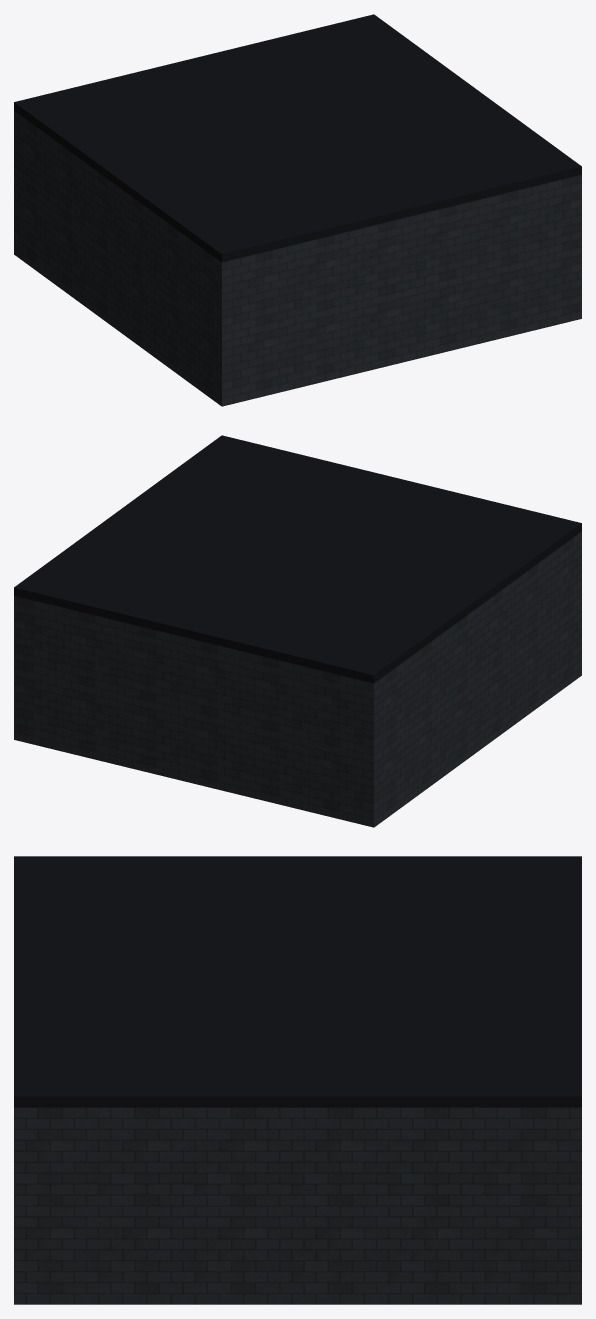
File: garage.glb
3 renders of one model, top to bottom at view 1: azimuth 30°, elevation 25°; view 2: azimuth 150°, elevation 25°; view 3: azimuth 270°, elevation 25°, orthographic. The views are drawn at different scales.
Parts seen in each view (by area): view 1: walls; view 2: walls; view 3: walls.
Boxes of the visible parts, x1=… form: walls: x1=14, y1=14, x2=581, y2=406; walls: x1=14, y1=435, x2=581, y2=827; walls: x1=14, y1=856, x2=581, y2=1304.
Bounding box in the file's own units: 9.4 × 3.8 × 9.4.
29 materials, 3 textured.
